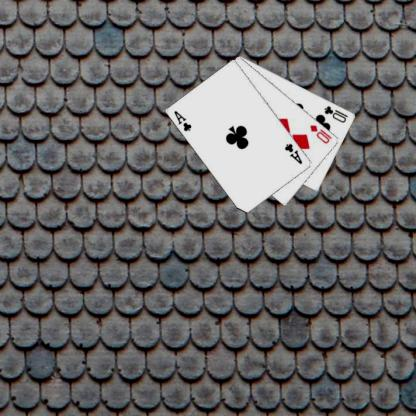10C: (322, 103, 349, 124)
10D: (307, 122, 333, 145)
AC: (282, 141, 304, 165), (172, 108, 193, 133)
